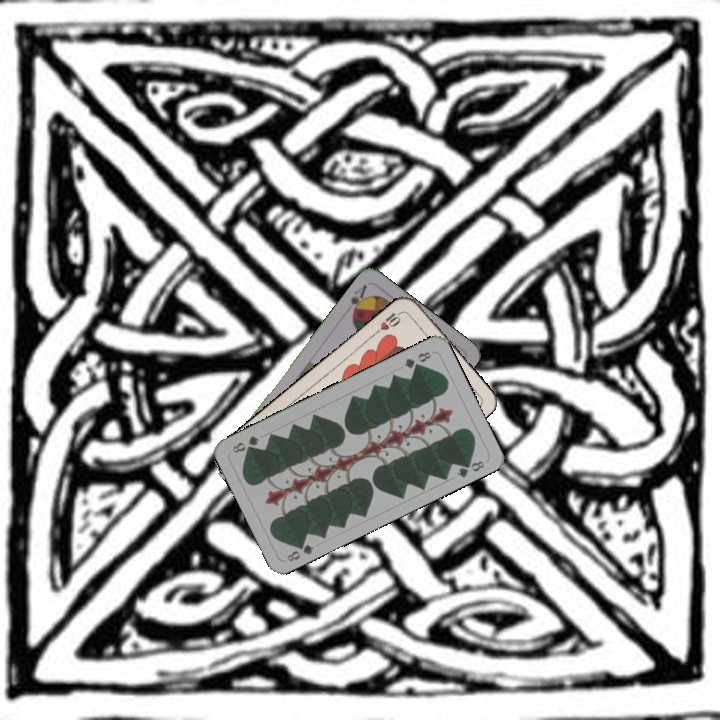G8: (283, 537, 317, 564), (400, 348, 434, 371)
H10: (371, 307, 405, 337)
SA: (341, 280, 370, 319)
